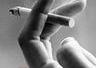smoke: (8, 6, 75, 28)
